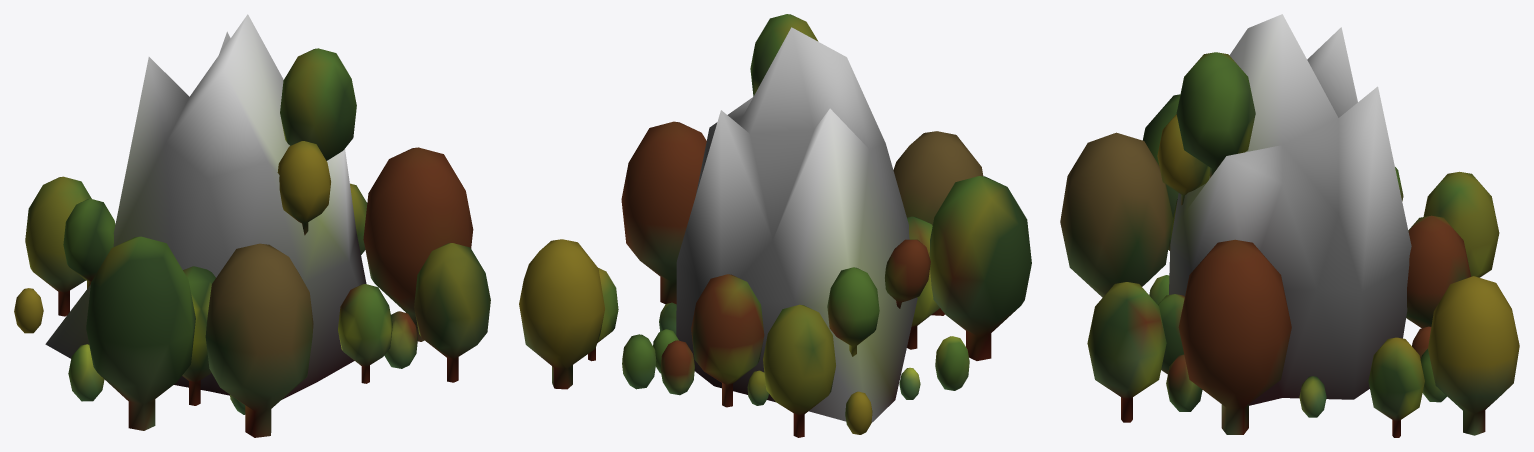
Rendered from SM_Alps.glb.
3 renders of one model, left to right at view 1: azimuth 30°, elevation 25°; view 2: azimuth 150°, elevation 25°; view 3: azimuth 270°, elevation 25°, orthographic. The views are drawn at different scales.
Parts seen in each view (by area): view 1: Foliage, Mountain; view 2: Foliage, Mountain; view 3: Foliage, Mountain.
Boxes of the visible parts, bbox=[...] form: Foliage: bbox=[14, 48, 490, 437]; Mountain: bbox=[45, 14, 366, 399]; Foliage: bbox=[519, 14, 1031, 437]; Mountain: bbox=[676, 27, 917, 422]; Foliage: bbox=[1060, 52, 1519, 437]; Mountain: bbox=[1169, 14, 1411, 405].
Bounding box in the file's own units: 8.06 × 6.8 × 8.12.
